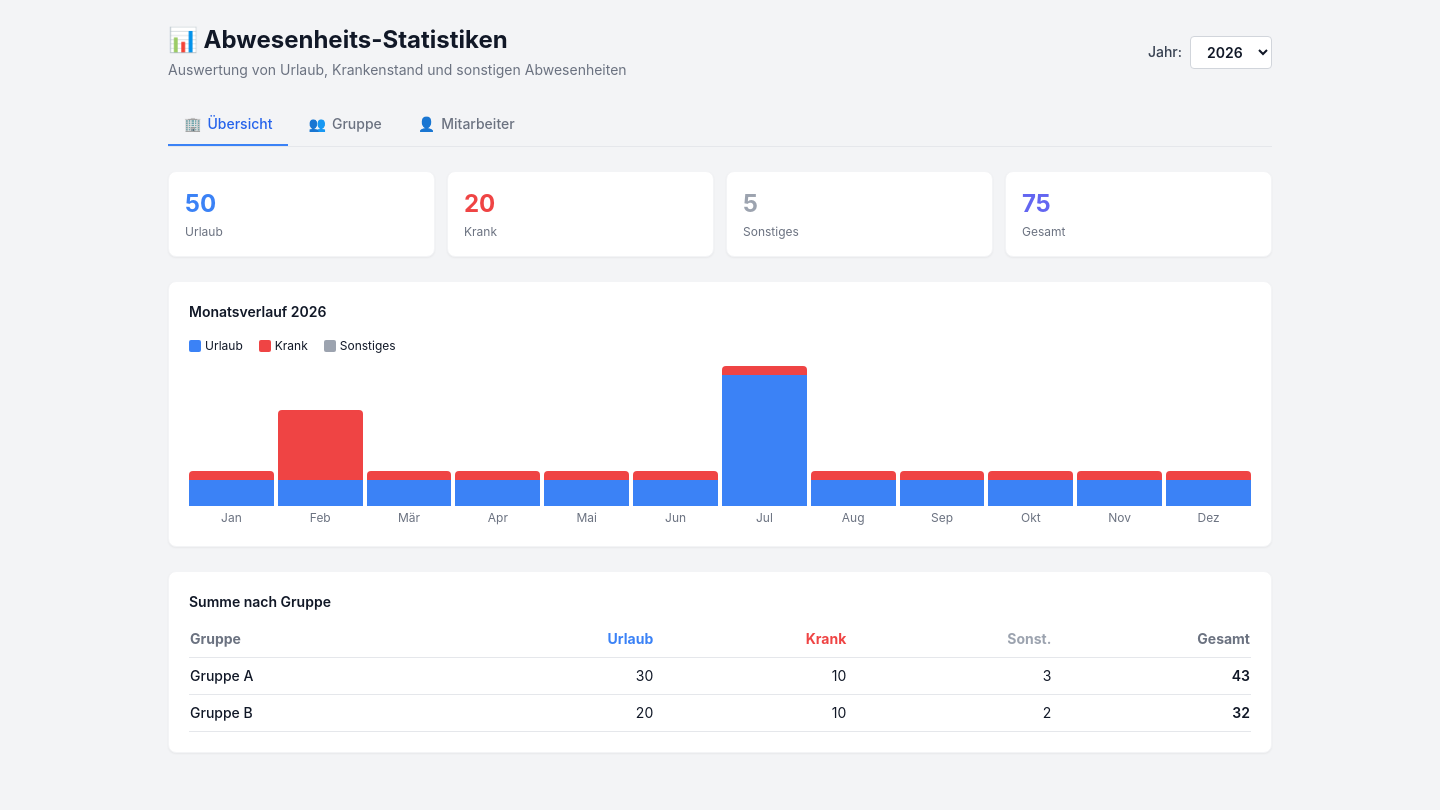
Test case: AbsenceStats › employee tab shows pending requests badge
The image size is (1440, 810).
Click the tab "👤 Mitarbeiter" at (466, 125), box [402,104,531,146]
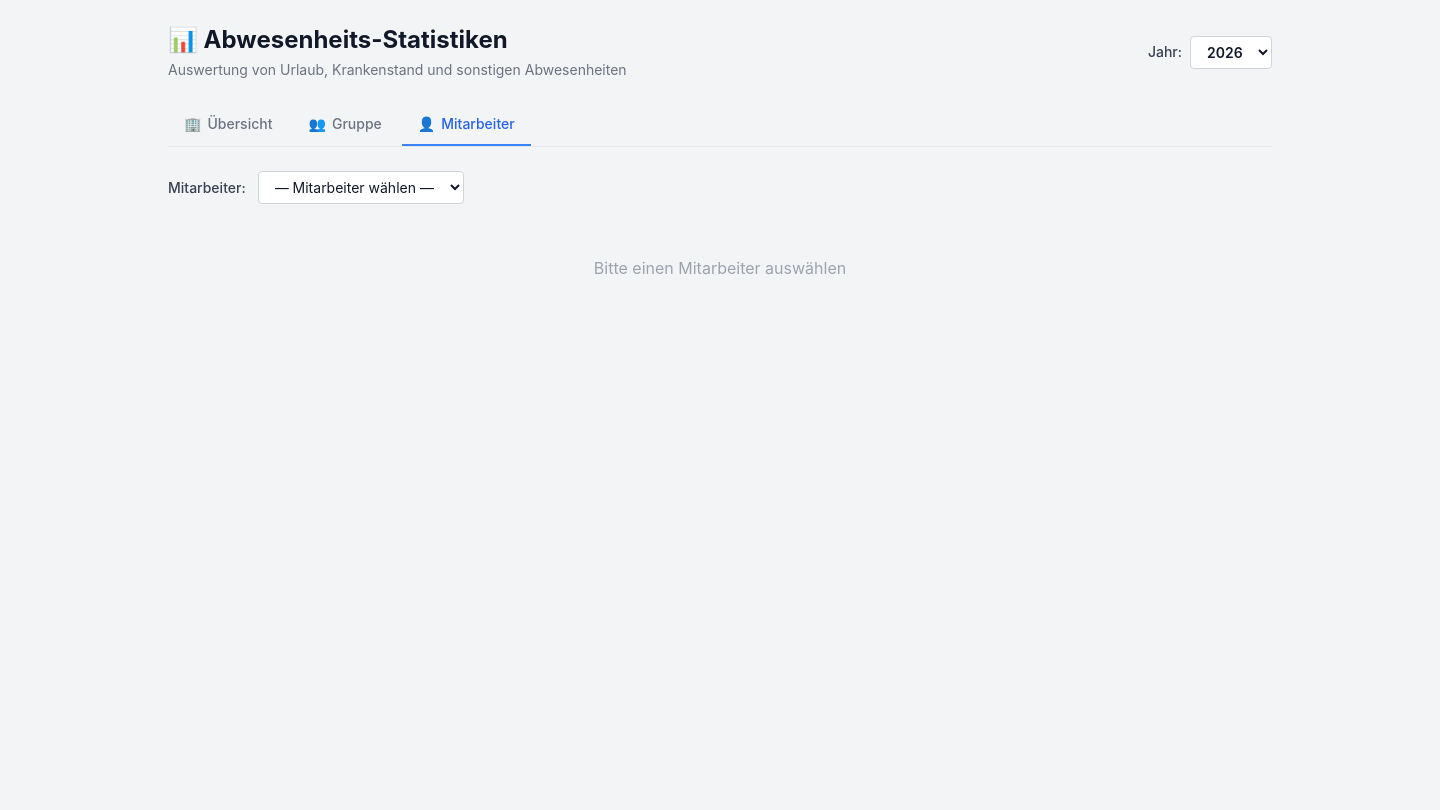
Select "Müller, Hans (HM)" in the 2nd dropdown at (361, 188), box [258,171,464,204]
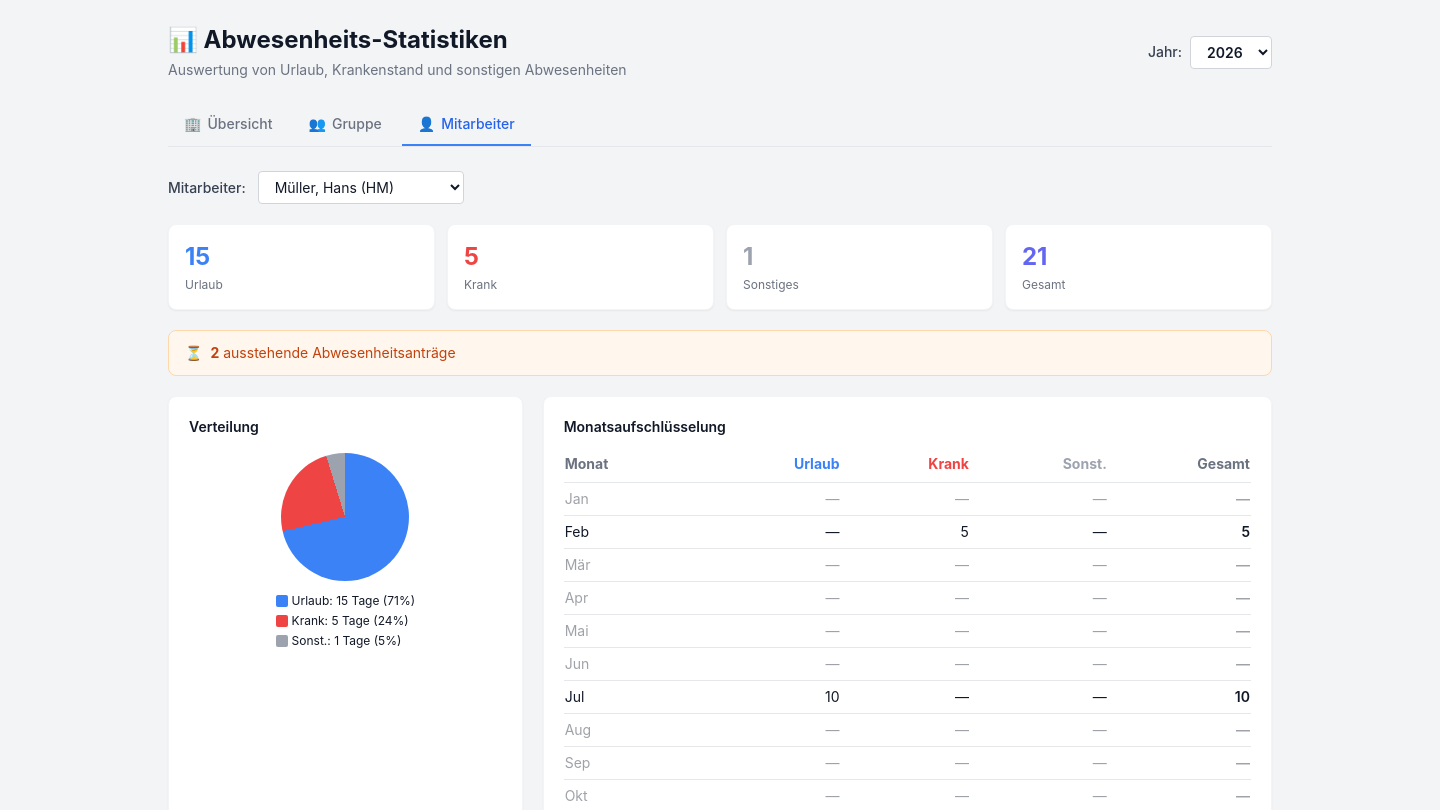
Expected: the text "2 ausstehende Abwesenheitsanträge" is shown, [210,343,456,363]
